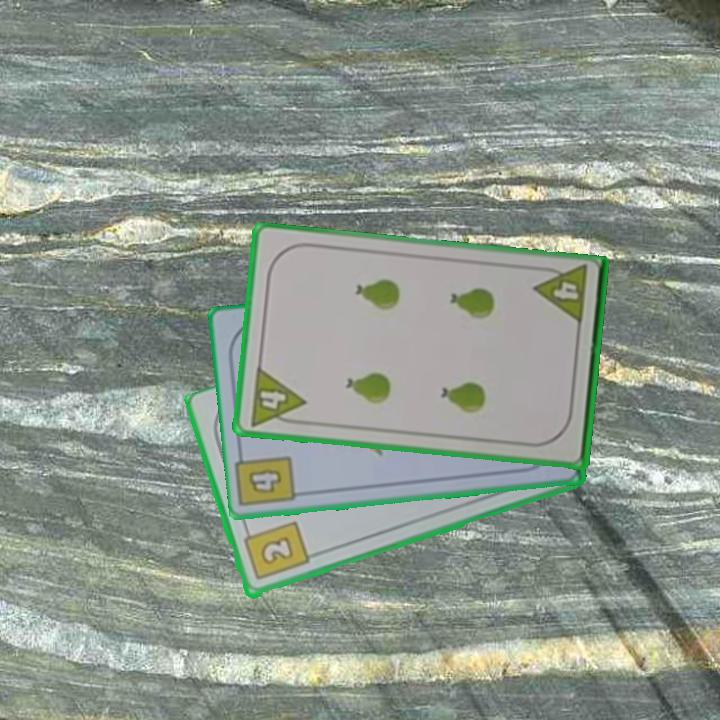2b: (239, 518, 312, 584)
4b: (244, 465, 284, 497)
4p: (246, 364, 308, 429), (531, 263, 591, 329)
